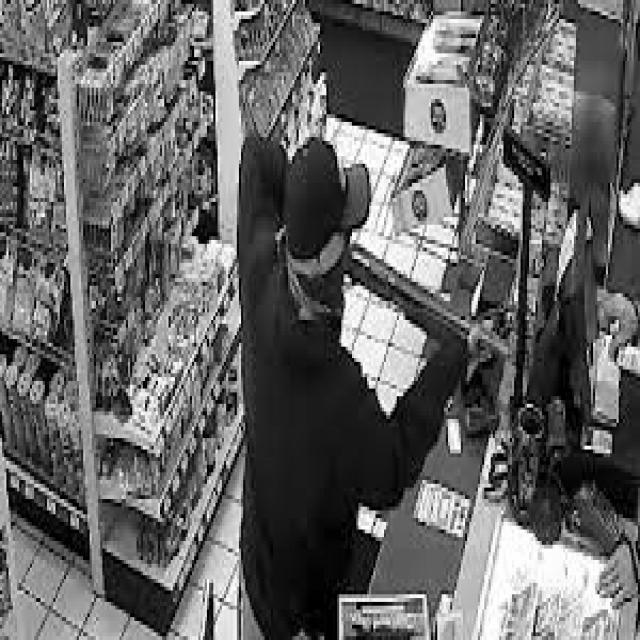gun: (341, 240, 509, 370)
